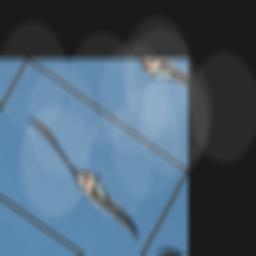Swallow: (8, 116, 156, 243)
